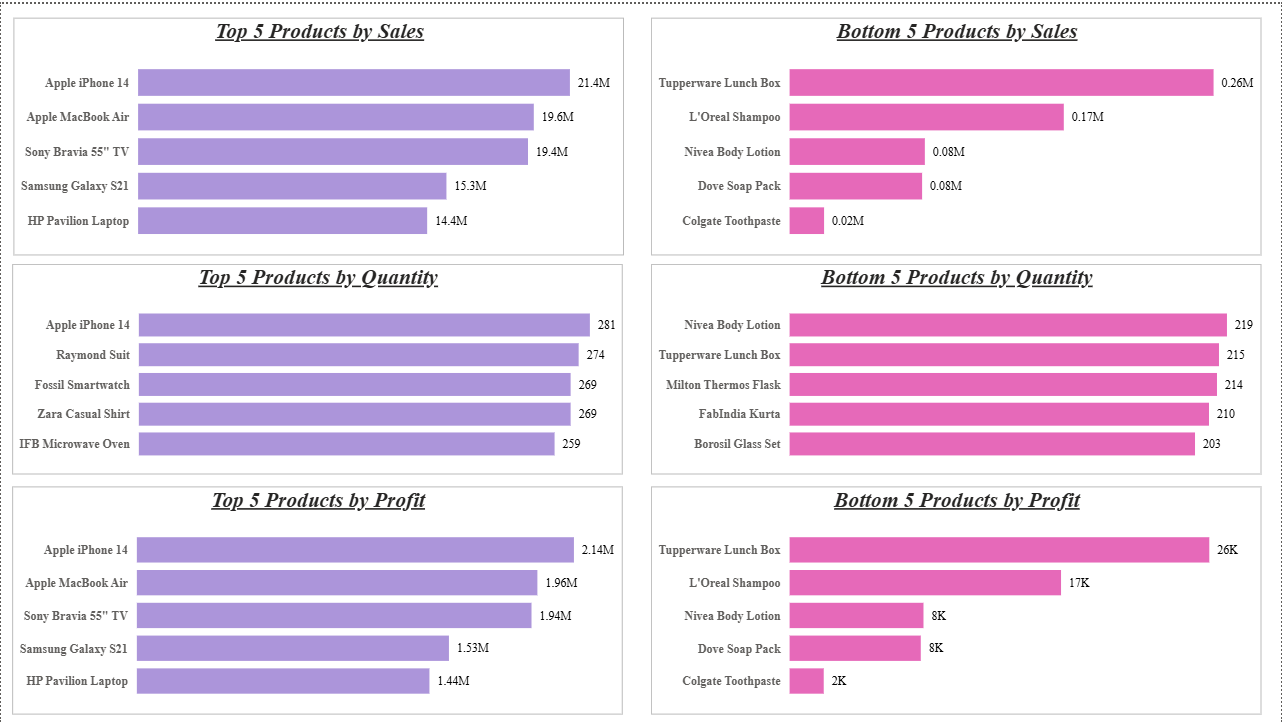

The page's visual inventory and layout, read from the dashboard file:
{"tool":"powerbi","page":{"name":"Top/Bottom 5 Analysis","canvas":[1280,720],"ordinal":1},"visuals":[{"type":"barChart","title":"Top 5 Products by Sales","fields":{"Category":["Dim Product.Product Name"],"Y":["Sum(Fact Table.Net Sales.1)"]},"box":[12.2,13.5,610.7,237.4],"z":0},{"type":"barChart","title":"Bottom 5 Products by Sales","fields":{"Category":["Dim Product.Product Name"],"Y":["Sum(Fact Table.Net Sales.1)"]},"box":[649.9,13.5,610.7,237.4],"z":1000},{"type":"barChart","title":"Top 5 Products by Quantity","fields":{"Category":["Dim Product.Product Name"],"Y":["Sum(Fact Table.Units Sold)"]},"box":[11.4,260.3,610.3,210.5],"z":2000},{"type":"barChart","title":"Bottom 5 Products by Quantity","fields":{"Category":["Dim Product.Product Name"],"Y":["Sum(Fact Table.Units Sold)"]},"box":[650.1,260.3,610.3,210.5],"z":3000},{"type":"barChart","title":"Top 5 Products by Profit","fields":{"Category":["Dim Product.Product Name"],"Y":["Sum(Fact Table.Profit)"]},"box":[11.4,482.2,610.3,227.6],"z":4000},{"type":"barChart","title":"Bottom 5 Products by Profit","fields":{"Category":["Dim Product.Product Name"],"Y":["Sum(Fact Table.Profit)"]},"box":[650.1,482.2,610.3,227.6],"z":5000}]}

Visuals, with their boxes in screenshot pixels (x1, y1, x2, y2), scaled from the page's 1280x720 canvas onto the 1282x722 screenshot:
"Top 5 Products by Sales" barChart: BBox(12, 14, 624, 252)
"Bottom 5 Products by Sales" barChart: BBox(651, 14, 1263, 252)
"Top 5 Products by Quantity" barChart: BBox(11, 261, 623, 472)
"Bottom 5 Products by Quantity" barChart: BBox(651, 261, 1262, 472)
"Top 5 Products by Profit" barChart: BBox(11, 484, 623, 712)
"Bottom 5 Products by Profit" barChart: BBox(651, 484, 1262, 712)
